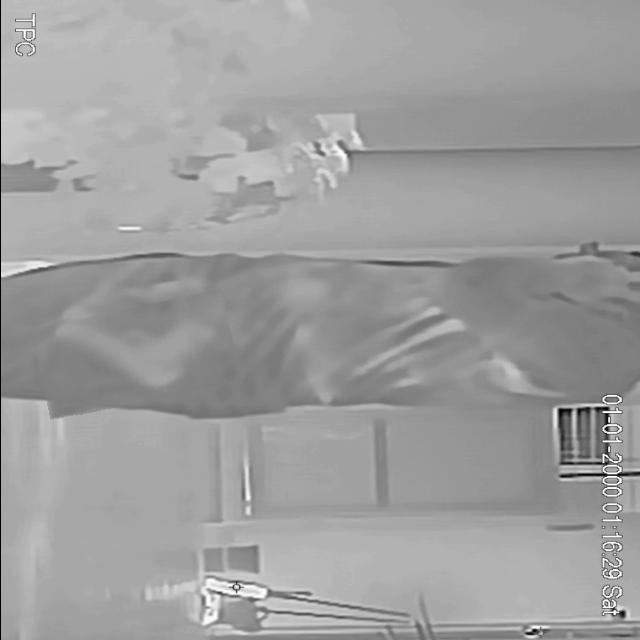Weapon: (35, 298, 236, 412)
